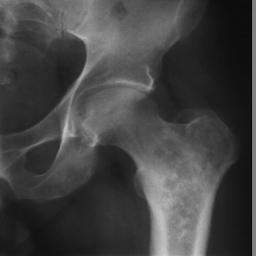cancer: (127, 106, 238, 254)
